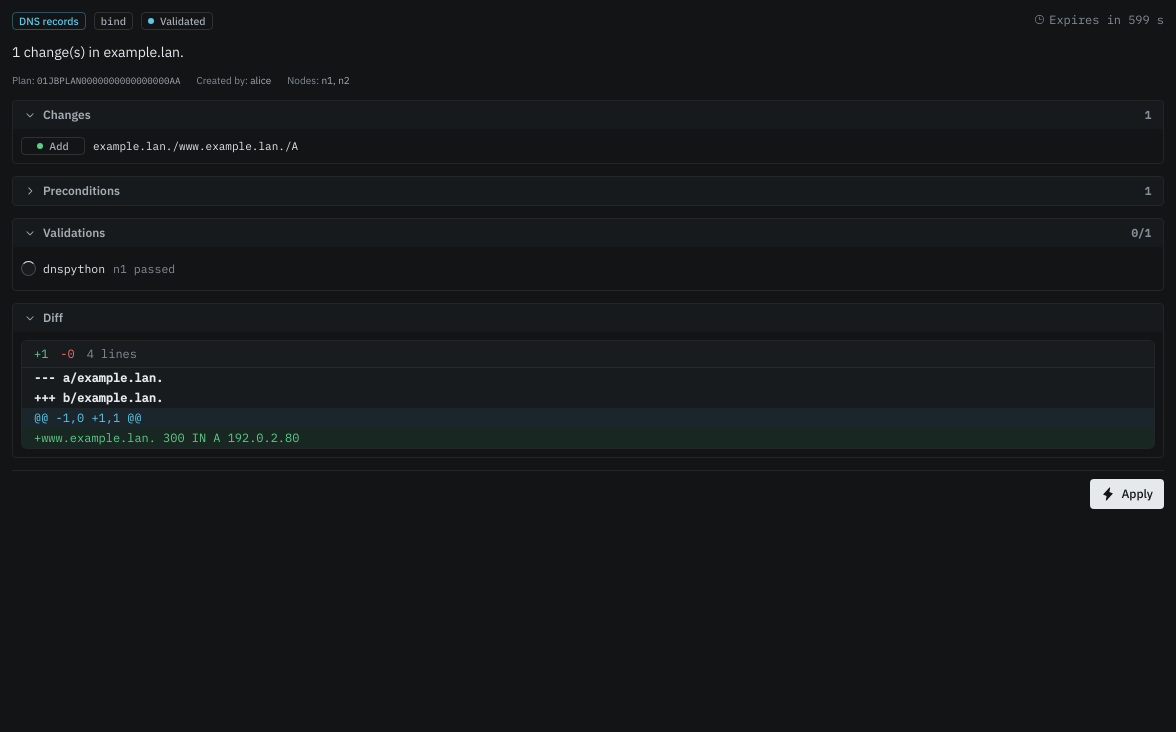
Test case: PlanPreview › shows engine validation errors returned by apply
Click the button with test id "plan-apply". click: [1127, 494]
box: left=1090, top=479, right=1164, bottom=509
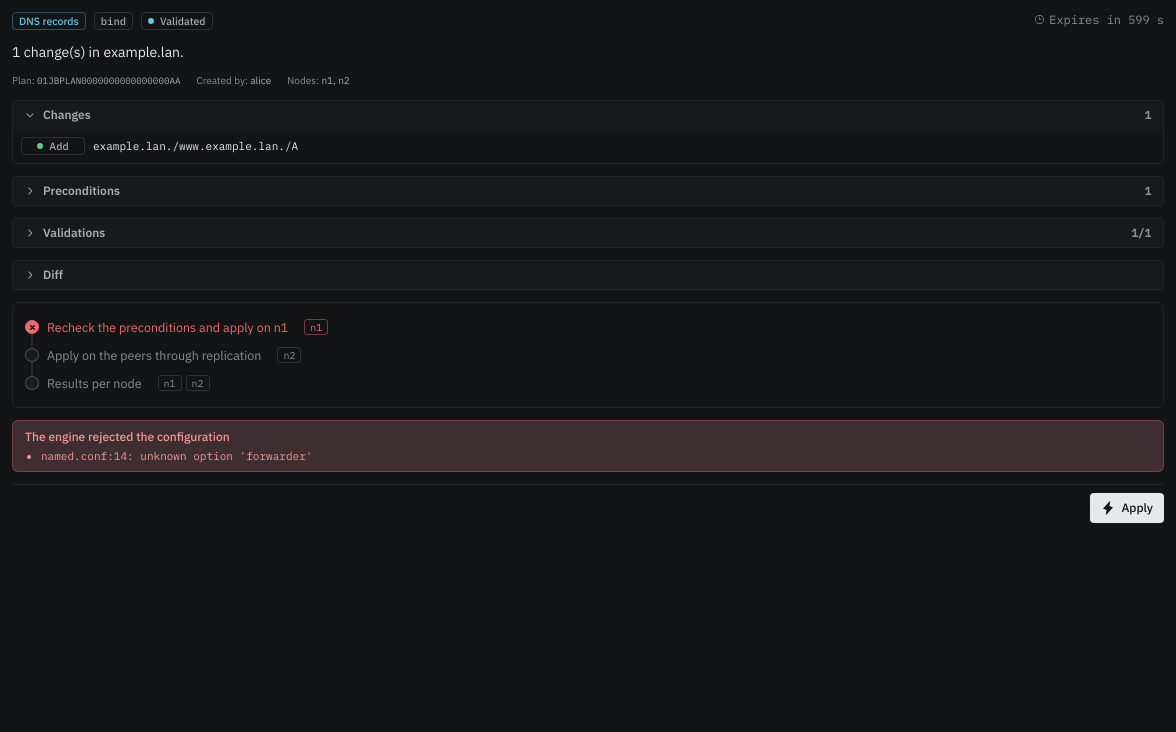
Check: the element with test id "plan-apply-error" shows "unknown option 'forwarder'", box left=41, top=449, right=312, bottom=463
